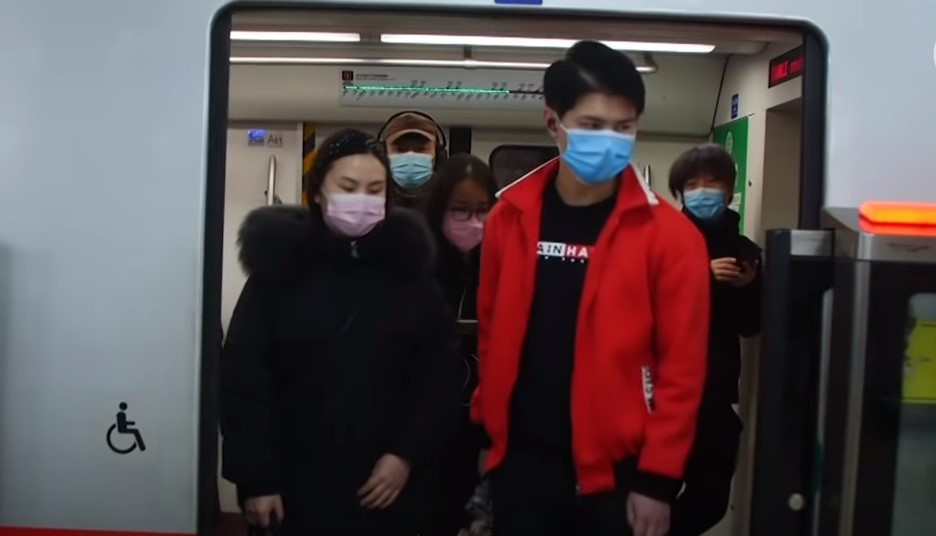face_with_mask: (543, 40, 644, 183), (308, 130, 390, 244), (436, 156, 494, 250), (678, 161, 737, 225), (384, 115, 435, 186)
